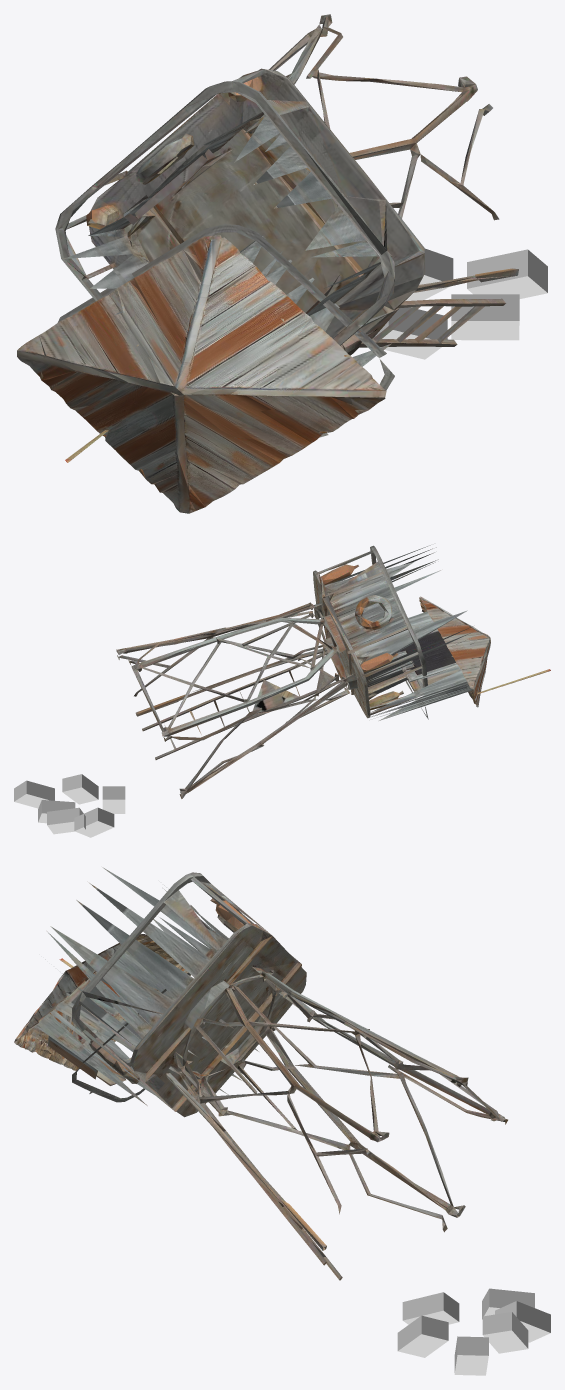
Rendered from militia_observation_post_wreck.glb.
3 renders of one model, top to bottom at view 1: azimuth 30°, elevation 25°; view 2: azimuth 150°, elevation 25°; view 3: azimuth 270°, elevation 25°, orthographic. The views are drawn at different scales.
Visible parts, largest first — view 1: wall, metal, wood; view 2: metal, wall, wood; view 3: metal, wall, wood.
Boxes of the visible parts, x1,y1,x2,y2 form: wall: (17, 224, 394, 513); metal: (55, 14, 518, 355); wood: (373, 248, 547, 359); metal: (116, 545, 473, 798); wall: (329, 596, 550, 720); wood: (14, 774, 125, 837); metal: (45, 867, 507, 1280); wall: (14, 934, 258, 1105); wood: (397, 1288, 550, 1375).
Size of the model in its own units: 7.82 by 4.62 by 6.82.
Materials: 1 (1 with a texture image).
